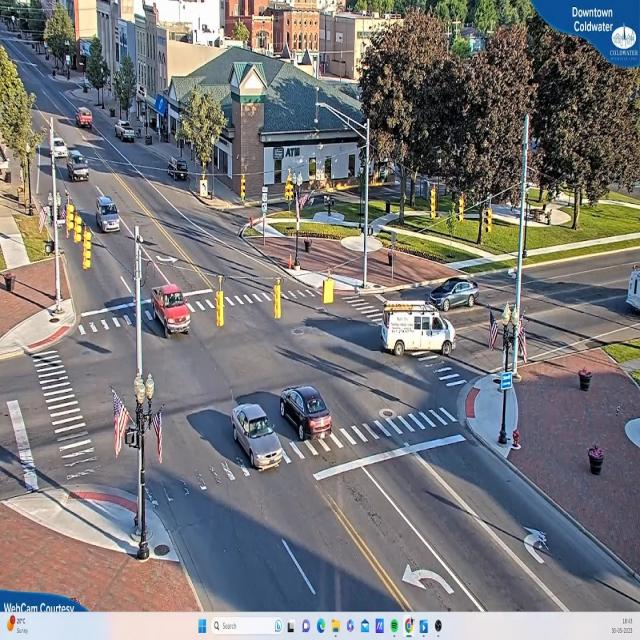car: (232, 403, 282, 472), (280, 387, 334, 441), (151, 286, 192, 332), (427, 281, 478, 311), (94, 195, 120, 231), (117, 121, 138, 143), (77, 110, 94, 128)
truck: (383, 306, 458, 358)
